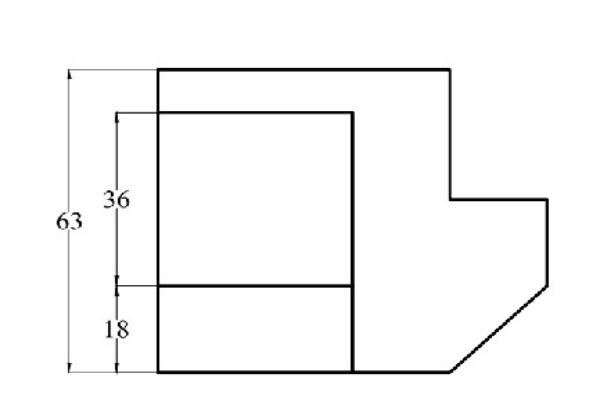dimensions: (47, 203, 85, 236), (96, 187, 132, 213), (103, 315, 132, 342)
